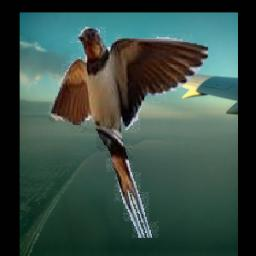Swallow: (49, 28, 209, 239)
